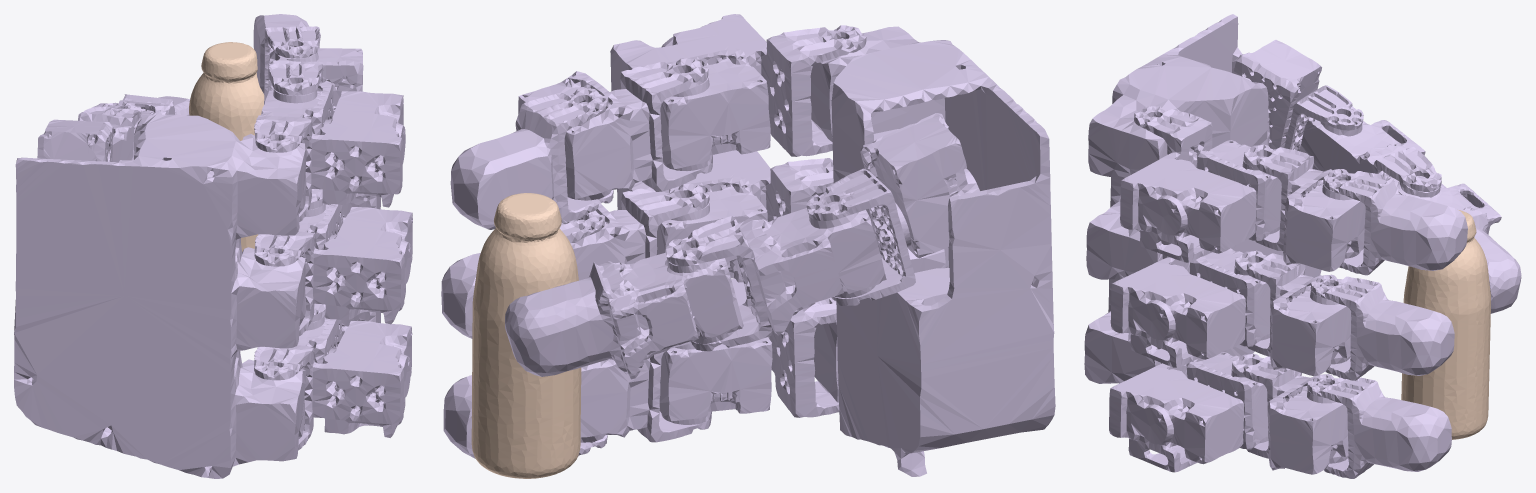
The model's file is 165cff26584947-closed.glb.
3 renders of one model, left to right at view 1: azimuth 30°, elevation 25°; view 2: azimuth 150°, elevation 25°; view 3: azimuth 270°, elevation 25°, orthographic. The views are drawn at different scales.
Parts seen in each view (by area): view 1: LEAP_hand, world; view 2: LEAP_hand, world; view 3: LEAP_hand, world.
Part boxes in pixels (x1=…): LEAP_hand: x1=14, y1=14, x2=412, y2=478; world: x1=189, y1=42, x2=264, y2=251; LEAP_hand: x1=441, y1=14, x2=1055, y2=476; world: x1=471, y1=193, x2=581, y2=478; LEAP_hand: x1=1084, y1=14, x2=1521, y2=478; world: x1=1401, y1=210, x2=1490, y2=439.
Bounding box in the file's own units: 0.1773 × 0.1285 × 0.1707.
